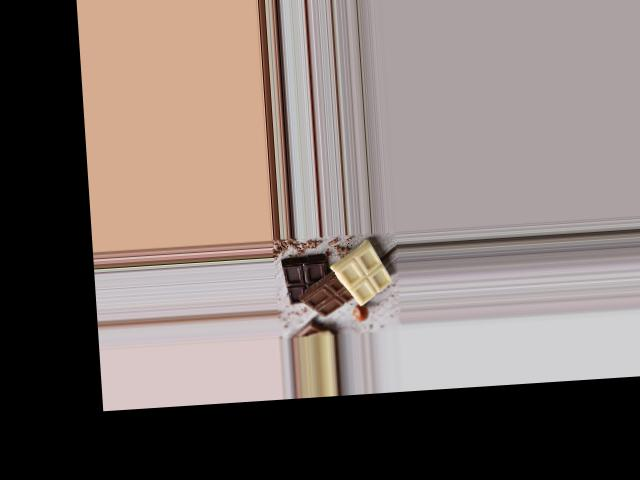chocolate: (275, 244, 394, 319)
